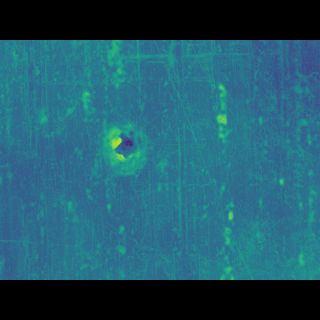Loch: (102, 135, 146, 165)
